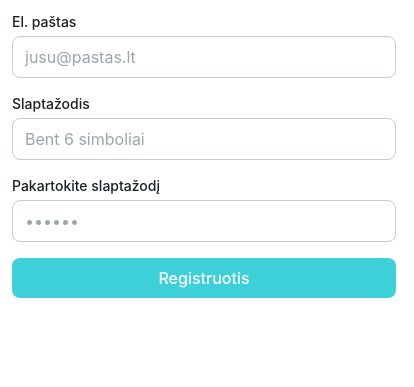
Scenario: RegisterForm › shows validation error for invalid email
The image size is (414, 387).
Click the button "Registruotis".
click(204, 278)  # box [12,258,396,298]
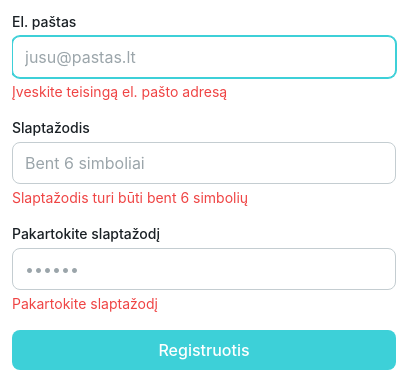
Check: the text "Įveskite teisingą el. pašto adresą" is shown, box [12,83,227,100]
